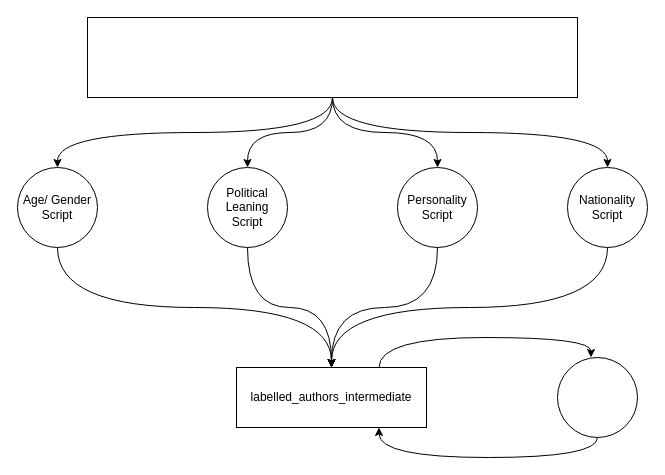
Image size: 665x475. Some labels were removed from this diagram. The shapes that lost their labels are listed below. From the top down, each one's box as (x1, y1, x2, y2) in pixels, then its label:
(86, 16, 578, 98): Reddit month collection
(556, 356, 638, 438): Merge Authors Script
